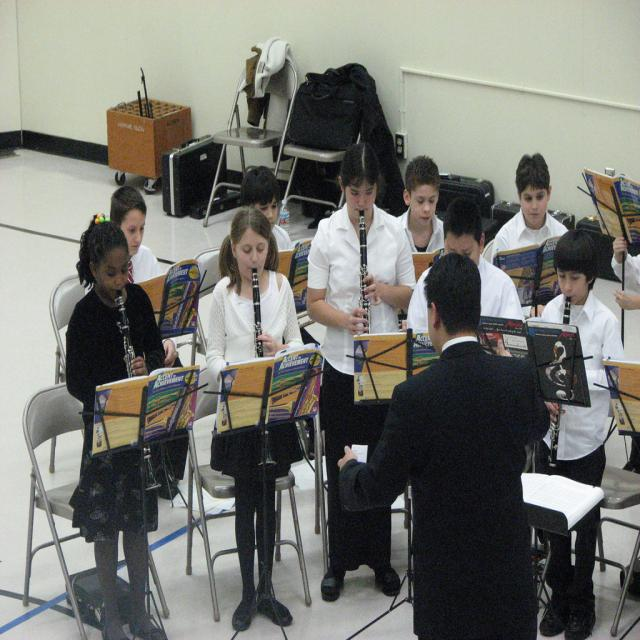clarinet: (114, 292, 162, 494), (545, 295, 576, 471), (251, 266, 277, 471), (357, 208, 371, 342), (268, 384, 310, 407), (143, 403, 176, 425)
saxophone: (298, 368, 321, 420), (183, 278, 198, 334), (177, 386, 194, 435)
